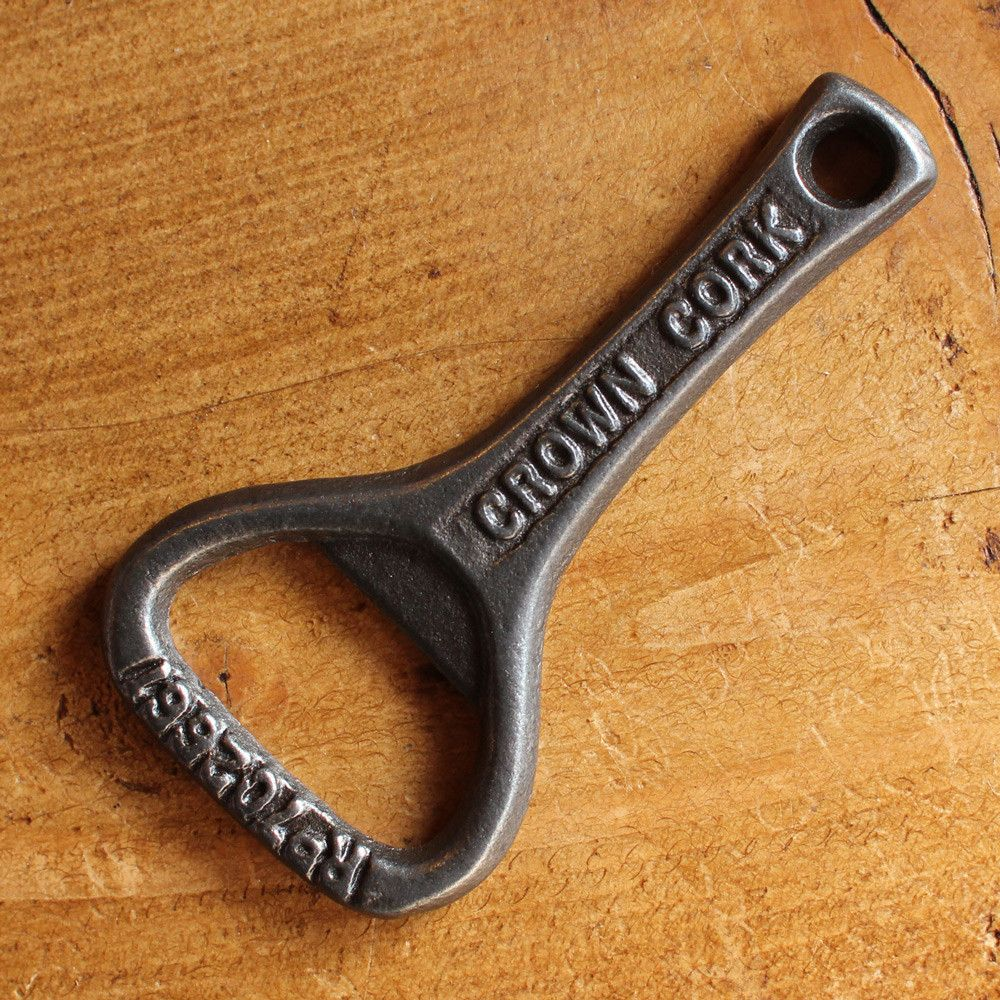bottleopener: (103, 72, 940, 921)
